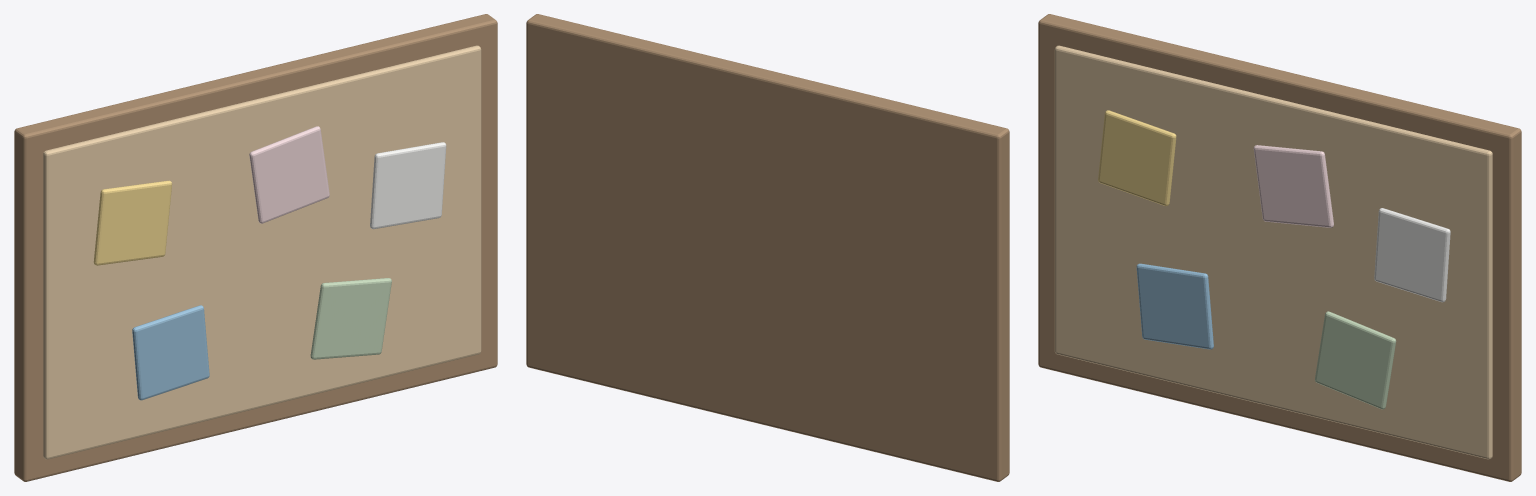
The model's file is Corkboard.fbx.
3 renders of one model, left to right at view 1: azimuth 30°, elevation 25°; view 2: azimuth 150°, elevation 25°; view 3: azimuth 330°, elevation 25°, orthographic.
Parts seen in each view (by area): view 1: Corkboard; view 2: Corkboard; view 3: Corkboard.
Boxes of the visible parts, x1=… form: Corkboard: x1=14, y1=14, x2=497, y2=481; Corkboard: x1=526, y1=14, x2=1009, y2=481; Corkboard: x1=1038, y1=14, x2=1521, y2=481.
Bounding box in the file's own units: 1 × 0.7 × 0.062.
